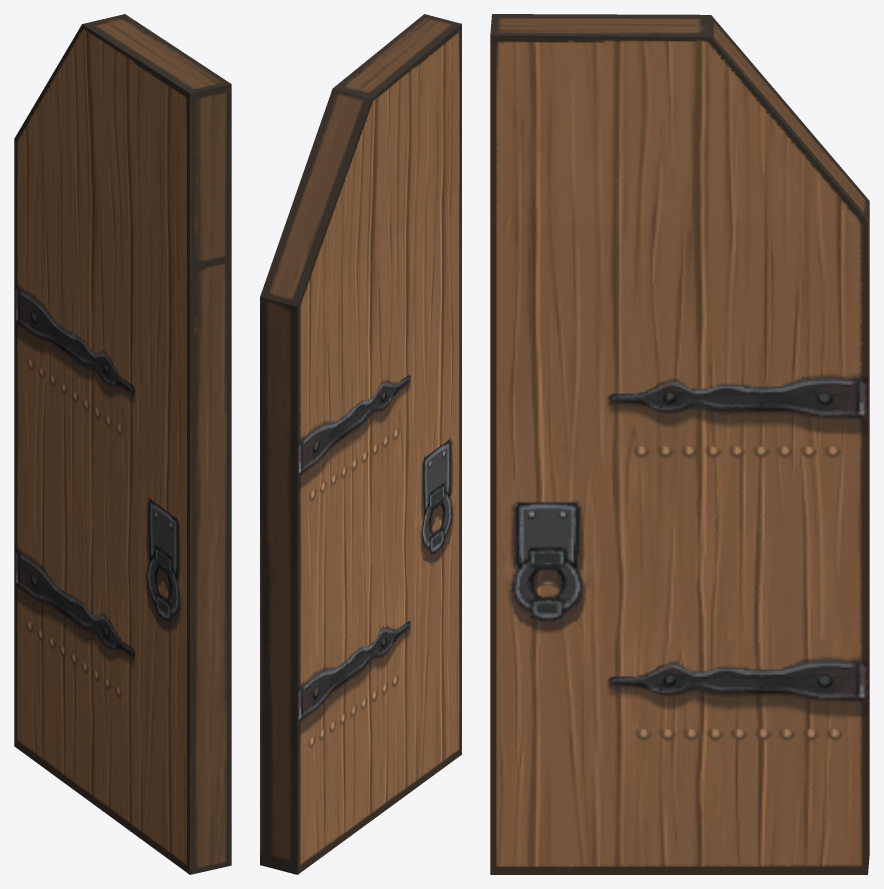
The model's file is dungeon_door.fbx.
3 renders of one model, left to right at view 1: azimuth 30°, elevation 25°; view 2: azimuth 150°, elevation 25°; view 3: azimuth 270°, elevation 25°, orthographic. The views are drawn at different scales.
Visible parts, largest first — view 1: 004.002; view 2: 004.002; view 3: 004.002.
Boxes of the visible parts, x1,y1,x2,y2 form: 004.002: [14, 14, 231, 874]; 004.002: [260, 14, 461, 874]; 004.002: [490, 14, 869, 874].
Bounding box in the file's own units: 18.46 × 294 × 120.
